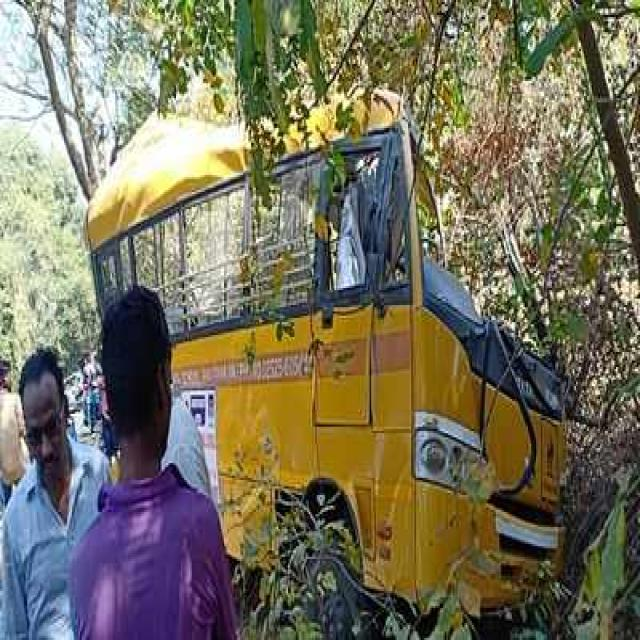accident: (86, 95, 564, 630)
